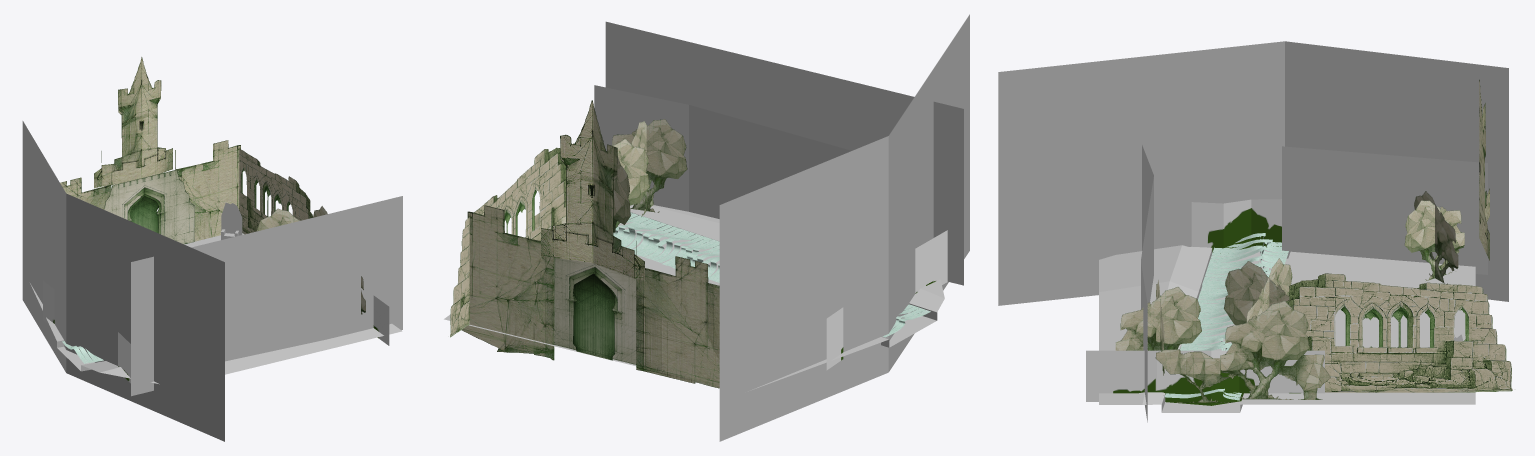
Rendered from 03_ScenaGiardino.fbx.
The picture shows the model from 3 angles, left to right: view 1: azimuth 30°, elevation 25°; view 2: azimuth 150°, elevation 25°; view 3: azimuth 270°, elevation 25°; orthographic projection. The views are drawn at different scales.
Visible parts, largest first — view 1: WoodsE, WoodsA_01, facciata.004, InteriorFacade, ExternalWalls, Floor, Trees_BackgroundB, InteriorWalls_throne, Trees_BackgroundA, SingleTreeC; view 2: WoodsE, facciata.004, WoodsA_01, WoodsC, InteriorFacade, ExternalWalls, Floor, SingleTreeB, Trees_BackgroundB, SingleTreeC; view 3: WoodsE, ExternalWalls, WoodsB, Floor, Trees_BackgroundA, Trees01_B, Trees_BackgroundB, SingleTreeB, SingleTreeA, SingleTreeC, WoodsC, Trees01_C (+2 smaller).
Boxes of the visible parts, box(x1,y1,x2,y2) form: WoodsE: box(22, 121, 224, 441); WoodsA_01: box(131, 196, 402, 396); facciata.004: box(60, 57, 240, 241); InteriorFacade: box(104, 169, 194, 244); ExternalWalls: box(239, 149, 312, 234); Floor: box(30, 233, 402, 384); Trees_BackgroundB: box(43, 281, 130, 383); InteriorWalls_throne: box(221, 202, 242, 239); Trees_BackgroundA: box(373, 295, 389, 345); SingleTreeC: box(257, 208, 299, 231); WoodsE: box(719, 14, 969, 441); facciata.004: box(462, 100, 719, 388); WoodsA_01: box(605, 21, 963, 285); WoodsC: box(594, 85, 851, 218); InteriorFacade: box(554, 258, 636, 364); ExternalWalls: box(450, 147, 565, 337); Floor: box(444, 204, 944, 391); SingleTreeB: box(612, 119, 687, 216); Trees_BackgroundB: box(826, 230, 947, 370); SingleTreeC: box(561, 138, 649, 232); WoodsE: box(998, 41, 1508, 305); ExternalWalls: box(1286, 273, 1512, 392); WoodsB: box(1282, 146, 1487, 274); Floor: box(1099, 245, 1475, 412); Trees_BackgroundA: box(1086, 350, 1324, 405); Trees01_B: box(1220, 301, 1309, 399); Trees_BackgroundB: box(1191, 199, 1281, 253); SingleTreeB: box(1115, 280, 1201, 392); SingleTreeA: box(1404, 191, 1464, 284); SingleTreeC: box(1224, 258, 1292, 325); WoodsC: box(1141, 145, 1153, 422); Trees01_C: box(1155, 349, 1232, 402).
Bounding box in the file's own units: 2704 × 2293 × 3242.
